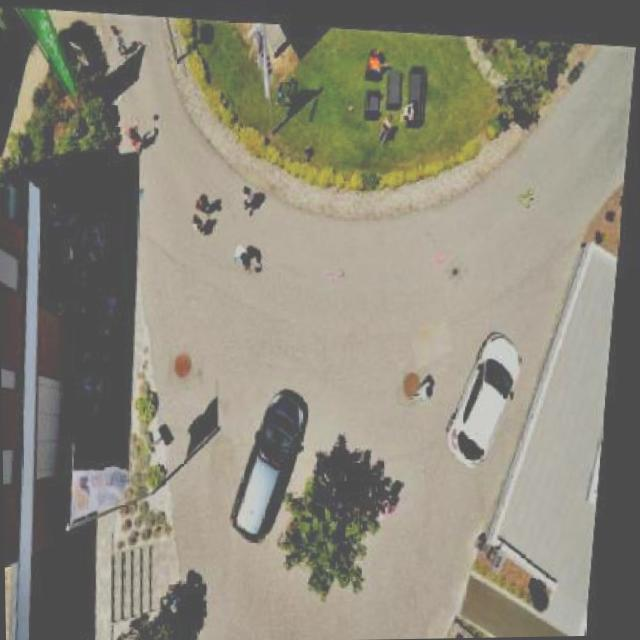Person: (96, 14, 138, 62), (119, 110, 152, 154), (371, 100, 399, 140), (238, 171, 266, 211), (416, 361, 444, 401), (234, 235, 266, 268), (360, 34, 388, 68), (190, 181, 223, 208), (187, 201, 215, 232), (394, 86, 421, 117)
